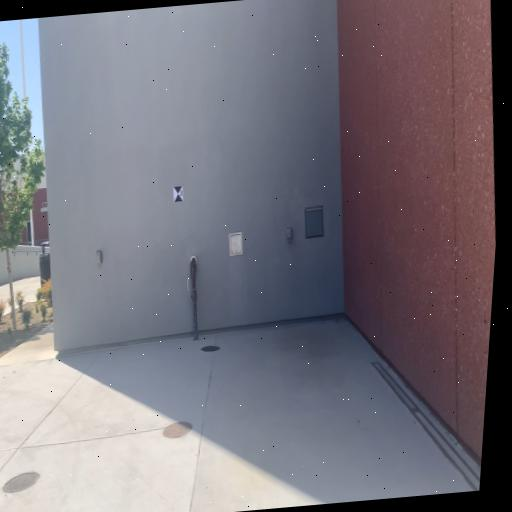target3: (173, 185, 183, 203)
